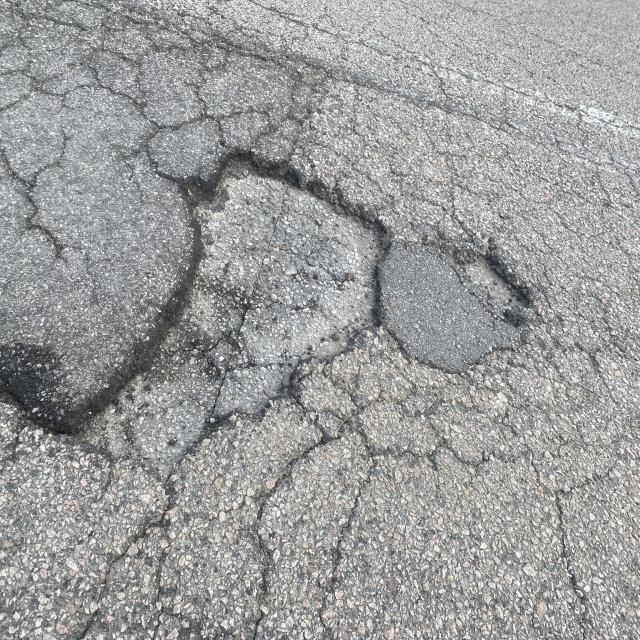pothole: (32, 95, 418, 502), (355, 59, 541, 435)
